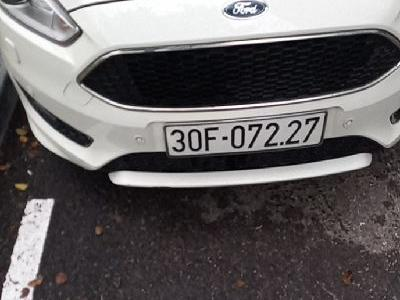lisence: (161, 110, 329, 159)
